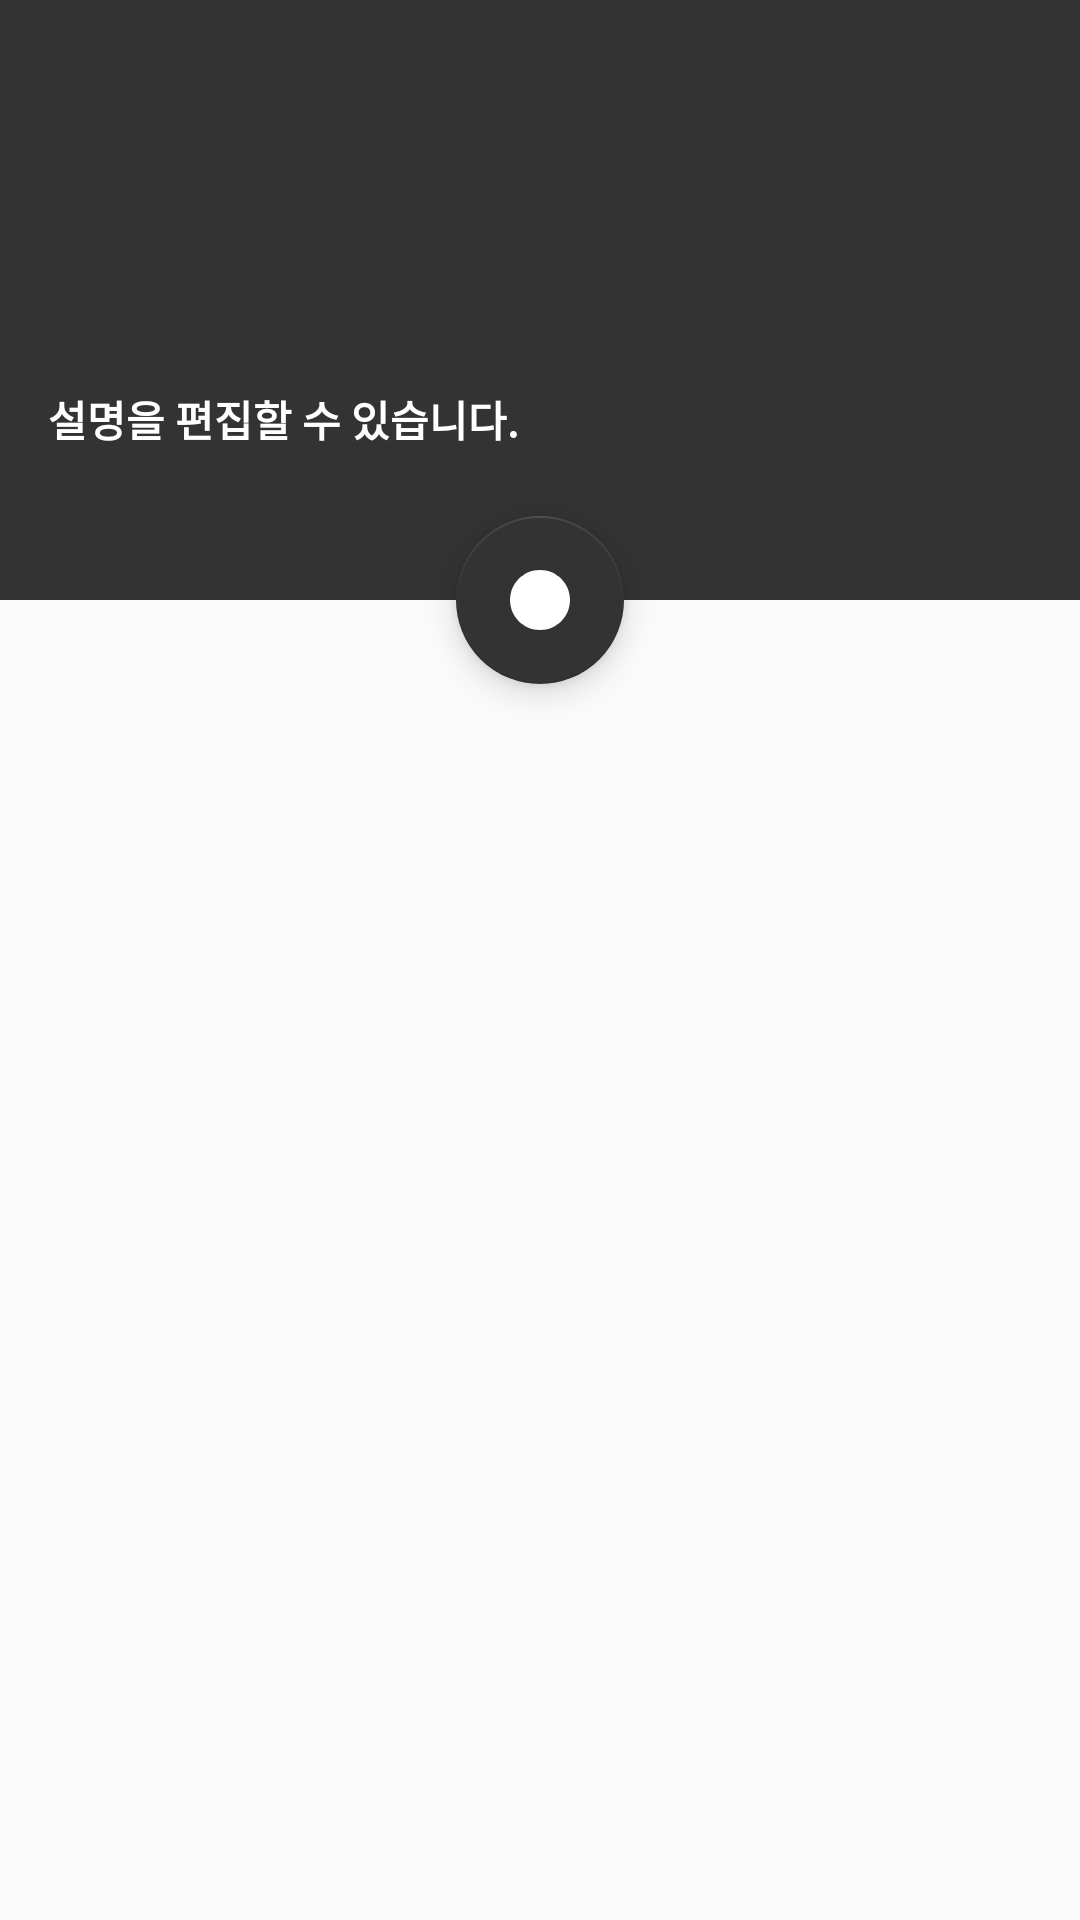

Icon click points for this 1080 × 1920 phone screenshot, format point (x, y):
lens: point (540, 600)
